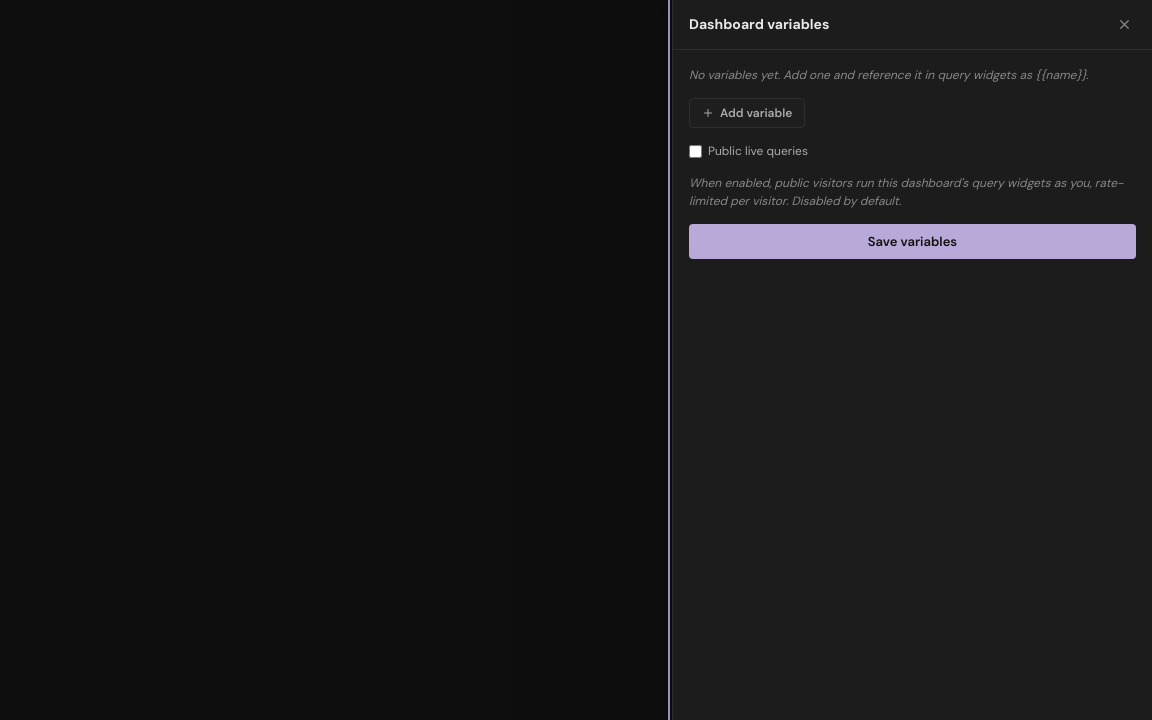
Scenario: DashboardVariablesPanel › adds and removes variables
Click the button "Add variable" at (747, 113), box [689,98,805,128]
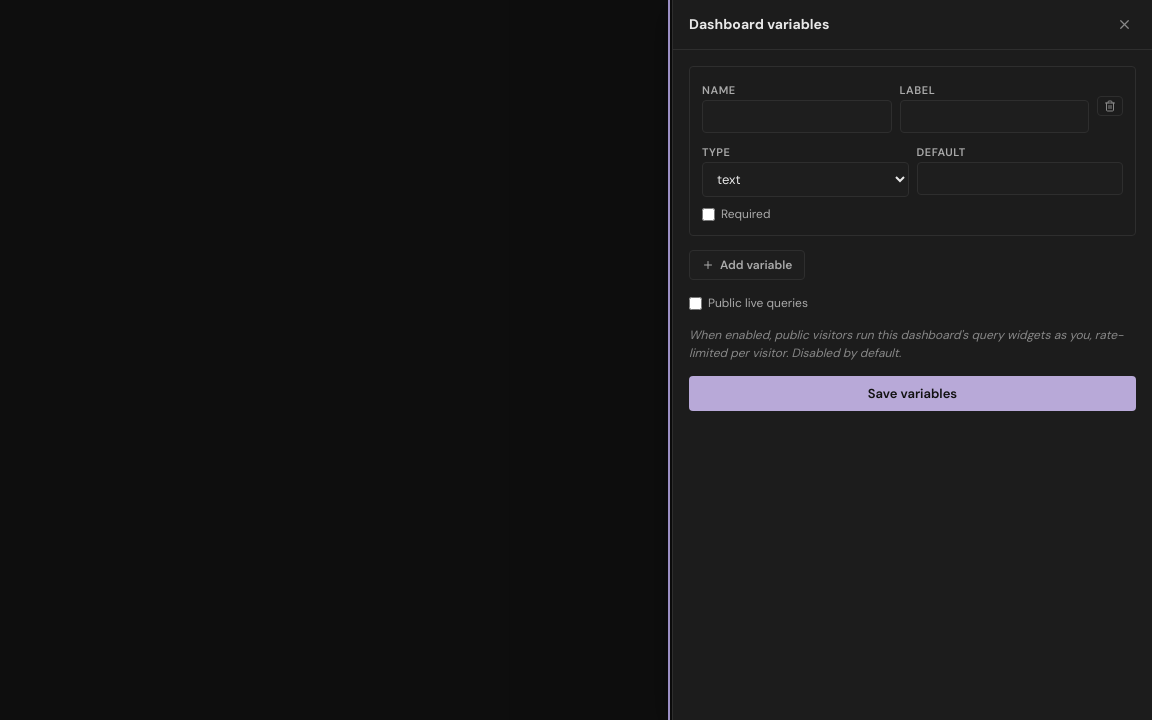
Click the button named "Remove variable" at (1110, 106), box [1097,96,1123,116]
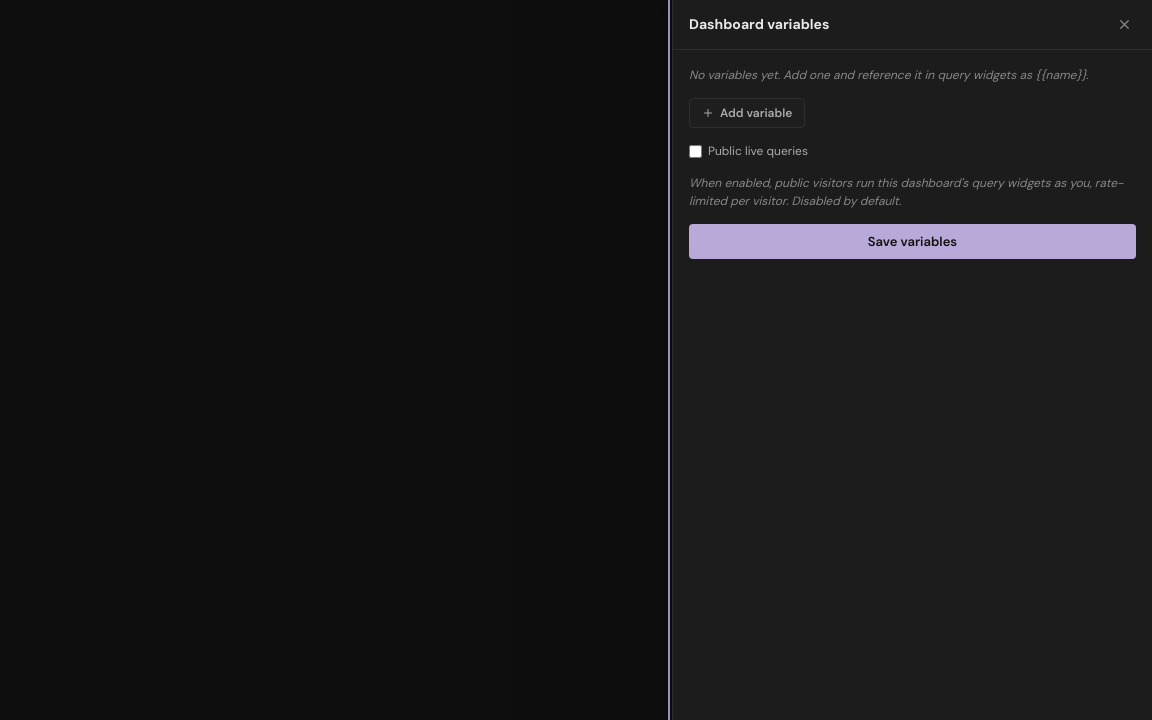
Result: the field labelled "Variable name" is gone
